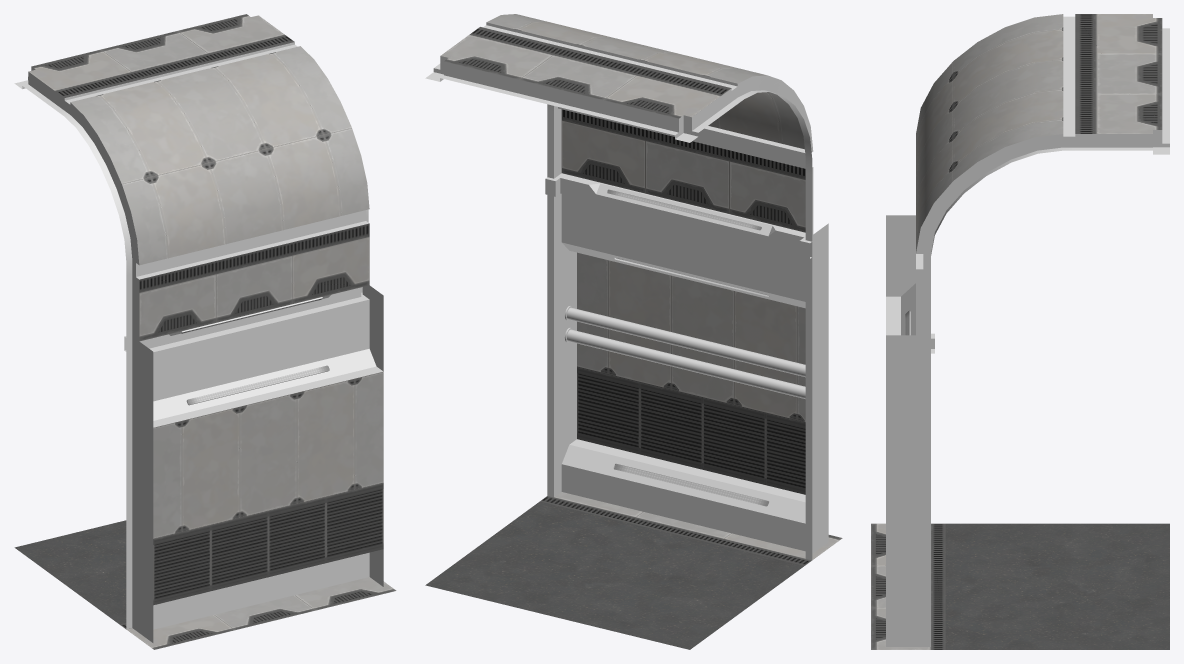
File: wall01.fbx
3 views of the same model, side by side, from view 1: azimuth 30°, elevation 25°; view 2: azimuth 150°, elevation 25°; view 3: azimuth 270°, elevation 25° (orthographic). The views are drawn at different scales.
Parts seen in each view (by area): view 1: wall01; view 2: wall01; view 3: wall01.
Part boxes in pixels (<box>): wall01: <box>14,14,396,649</box>; wall01: <box>425,14,842,649</box>; wall01: <box>871,14,1169,649</box>.
Size of the model in its own units: 200 by 379 by 200.
